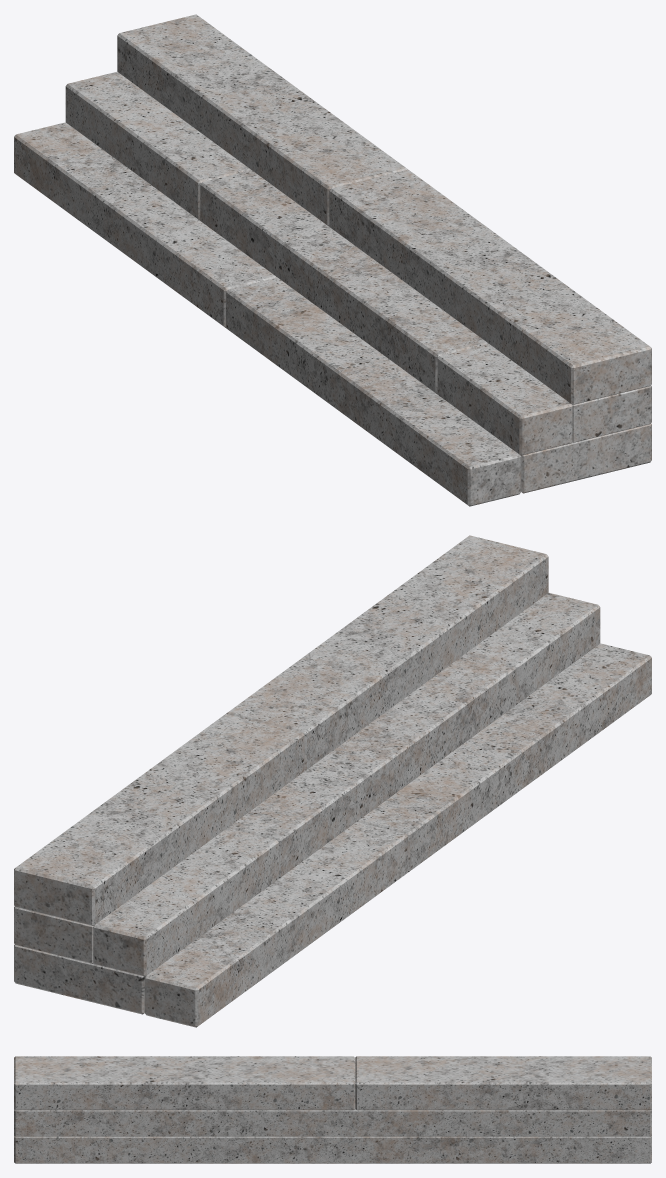
File: SM_Stair01E.fbx
3 views of the same model, one above another, from view 1: azimuth 30°, elevation 25°; view 2: azimuth 150°, elevation 25°; view 3: azimuth 270°, elevation 25° (orthographic). The views are drawn at different scales.
Visible parts, largest first — view 1: SM_Stair01E; view 2: SM_Stair01E; view 3: SM_Stair01E.
Boxes of the visible parts, x1,y1,x2,y2 form: SM_Stair01E: [14, 14, 651, 506]; SM_Stair01E: [14, 535, 651, 1027]; SM_Stair01E: [14, 1056, 651, 1163].
Bounding box in the file's own units: 116 × 499 × 70.08.
